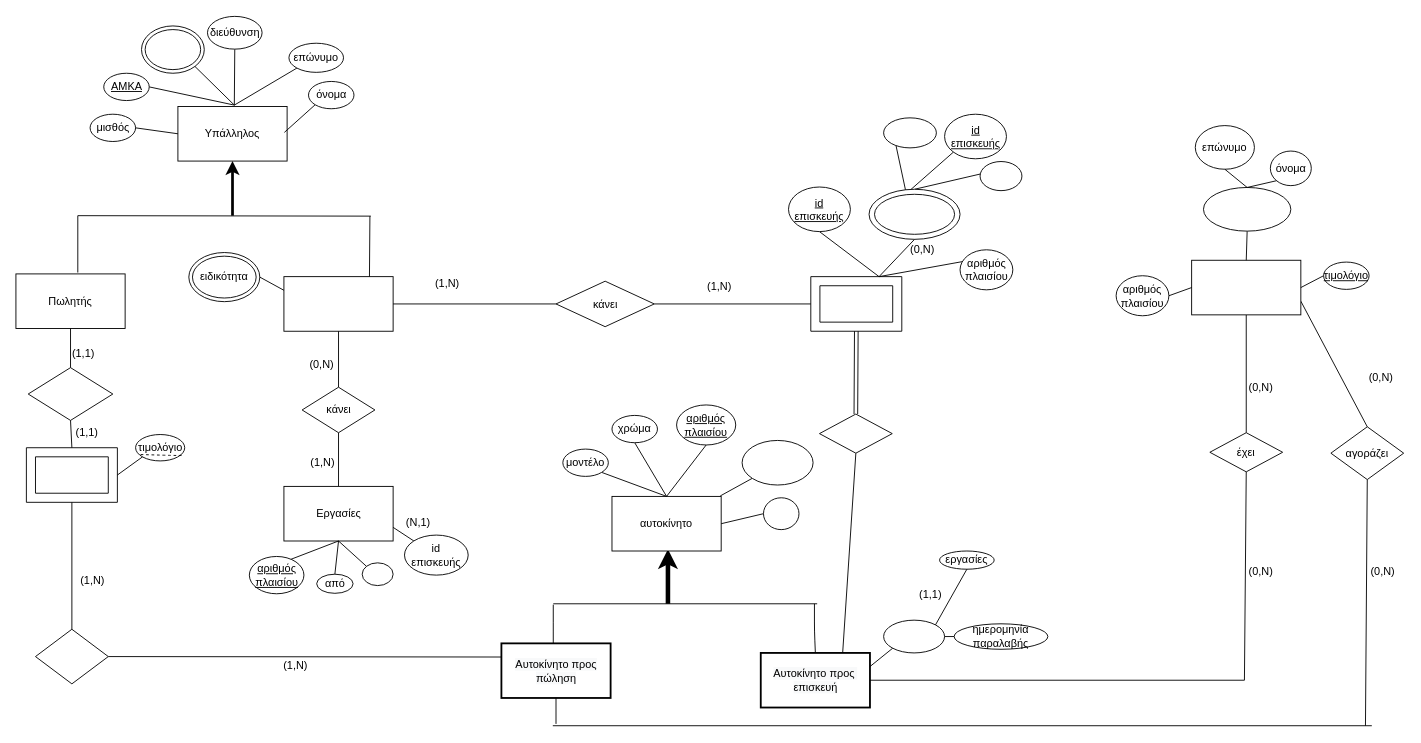
Some shapes in this 1421 by 743 pixel diagram are drawn without their labels. Each missing label, with the centre of its shape:
έντυπο επισκευής: pixel 914 636
έτος κατασκευής: pixel 777 462
ανταλλακτικά: pixel 914 213
διεκπεραιώνει: pixel 70 393
είδος: pixel 1000 176
είναι_για: pixel 71 656
επισκευή: pixel 856 303
εώς: pixel 377 574
μάρκα: pixel 781 513
ονοματεπώνυμο: pixel 1247 209
πελάτης: pixel 1246 287
ποσότητα: pixel 909 132
πώληση: pixel 71 474
Τεχνικός: pixel 338 303
τηλέφωνο: pixel 172 49
χρεάζεται: pixel 855 433
